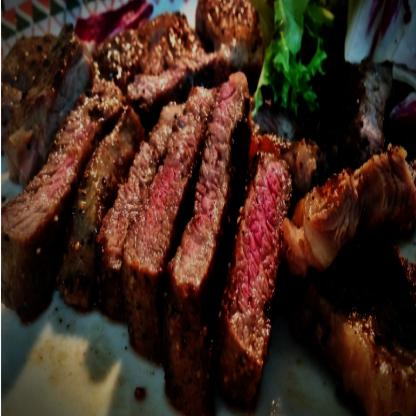Carne: (0, 59, 124, 315), (171, 69, 252, 398), (126, 68, 215, 360), (212, 146, 293, 405), (96, 95, 181, 314), (292, 147, 416, 278), (3, 27, 94, 185), (97, 7, 230, 113)
